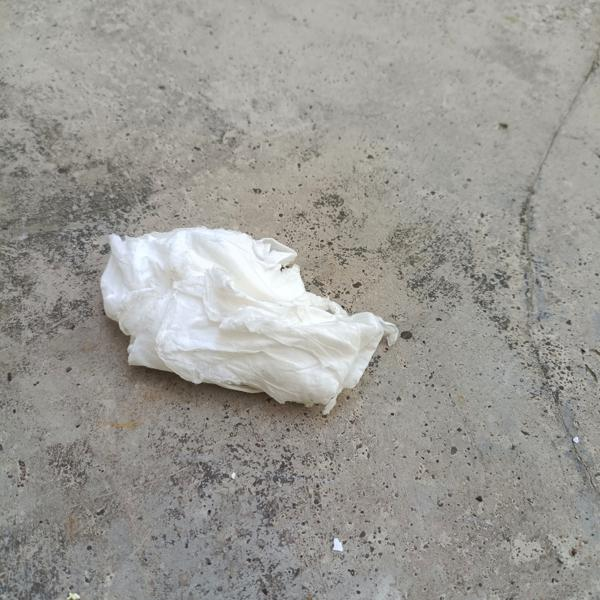Organik: (76, 207, 413, 429)
